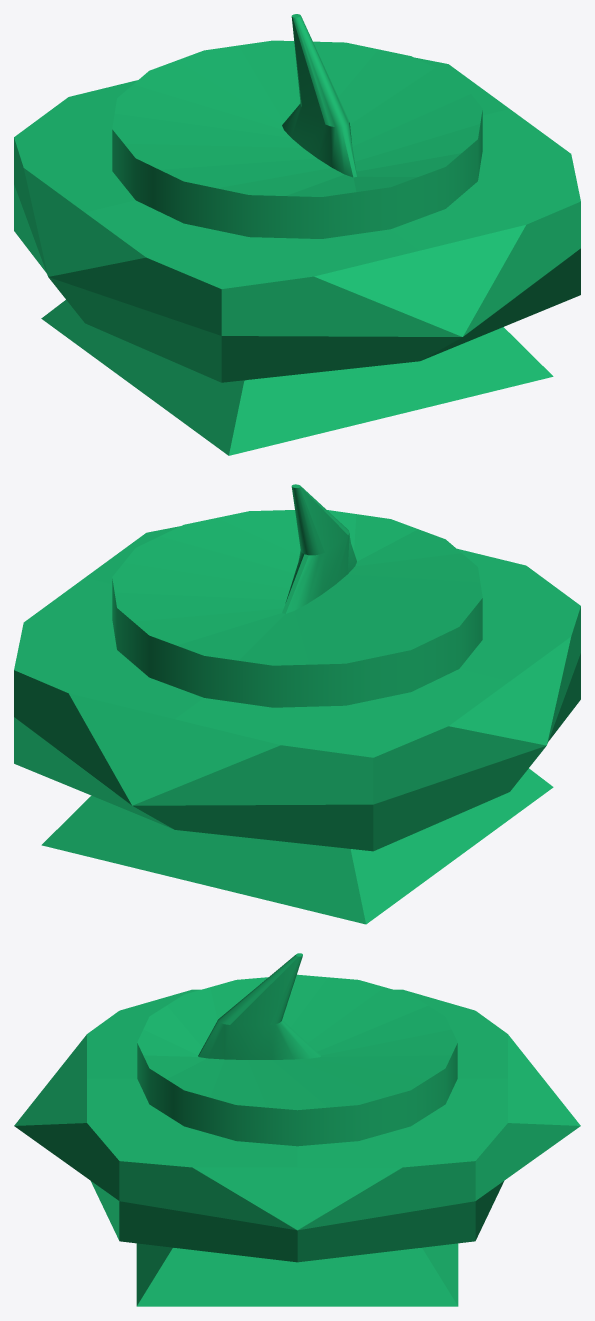
File: Sun Dial Good.fbx
3 renders of one model, top to bottom at view 1: azimuth 30°, elevation 25°; view 2: azimuth 150°, elevation 25°; view 3: azimuth 270°, elevation 25°, orthographic. The views are drawn at different scales.
Parts seen in each view (by area): view 1: pCube2; view 2: pCube2; view 3: pCube2.
Boxes of the visible parts, x1=… form: pCube2: x1=14, y1=14, x2=580, y2=455; pCube2: x1=14, y1=484, x2=580, y2=924; pCube2: x1=14, y1=953, x2=580, y2=1306.
Bounding box in the file's own units: 69.36 × 43.98 × 79.62.
Materials: 1 (1 with a texture image).
